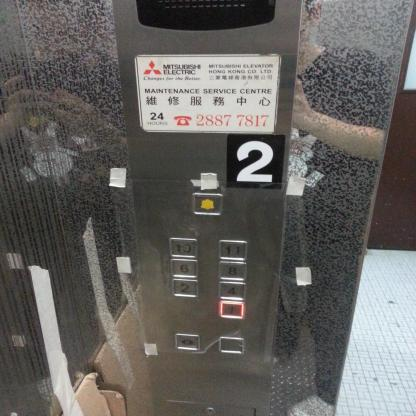1: (218, 300, 246, 320)
10: (168, 235, 198, 259)
11: (218, 239, 249, 262)
2: (224, 131, 286, 189), (170, 277, 199, 298)
4: (218, 280, 247, 302)
6: (170, 258, 199, 279)
8: (218, 260, 247, 282)
alarm: (192, 191, 225, 216)
empty: (218, 335, 245, 355)
open: (174, 332, 202, 352)
